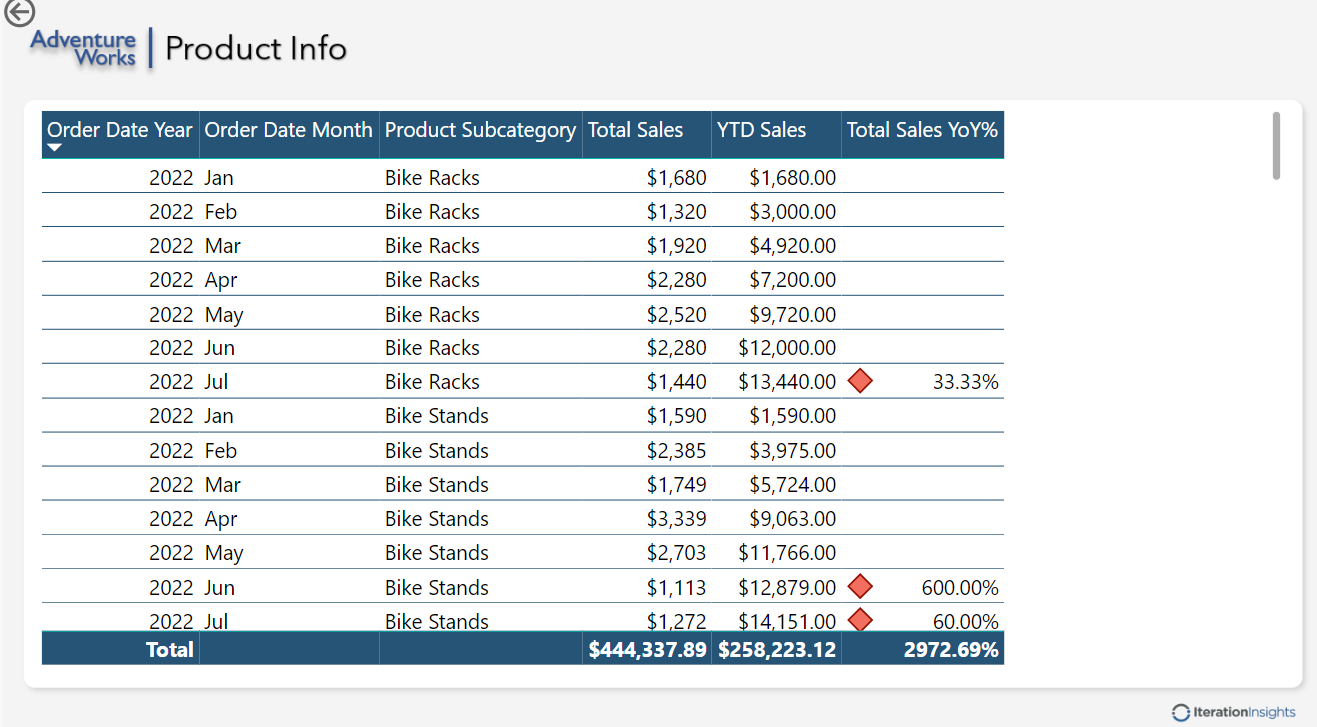

What the dashboard file says about the page in this screenshot:
{"tool":"powerbi","page":{"name":"Product Details","canvas":[1280,720],"ordinal":2},"visuals":[{"type":"tableEx","fields":{"Values":["Order Date.Order Date Year","Order Date.Order Date Month","Sales Product.Product Hierarchy.Product Subcategory","Sales.Total Sales","Sales.YTD Sales","Sales.Total Sales YoY%"]},"box":[35,111,1207.6,544.1],"z":0},{"type":"actionButton","box":[0,0,100,40],"z":1000}]}

Visuals, with their boxes in screenshot pixels (x1, y1, x2, y2), scaled from the page's 1280x720 canvas onto the 1317x727 screenshot:
tableEx - Order Date.Order Date Year x Order Date.Order Date Month: <bbox>36, 112, 1279, 661</bbox>
actionButton: <bbox>0, 0, 103, 40</bbox>
